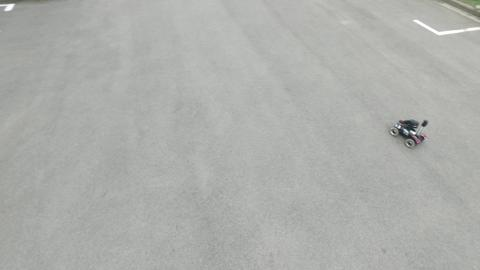chariot: (388, 113, 435, 152)
